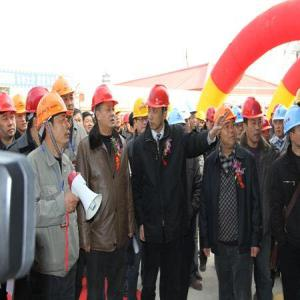blue: (284, 106, 300, 148), (273, 104, 288, 139), (231, 103, 245, 136)
none: (83, 110, 95, 136)
red: (92, 83, 118, 134), (26, 85, 49, 136), (242, 96, 264, 145), (148, 83, 170, 132), (3, 91, 19, 144)
yellow: (36, 92, 71, 151), (214, 105, 238, 149), (52, 76, 76, 118), (13, 93, 29, 133), (134, 96, 150, 135), (195, 111, 206, 131)
